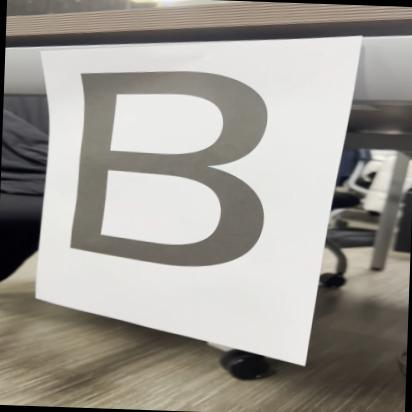seat: (46, 60, 304, 290)
